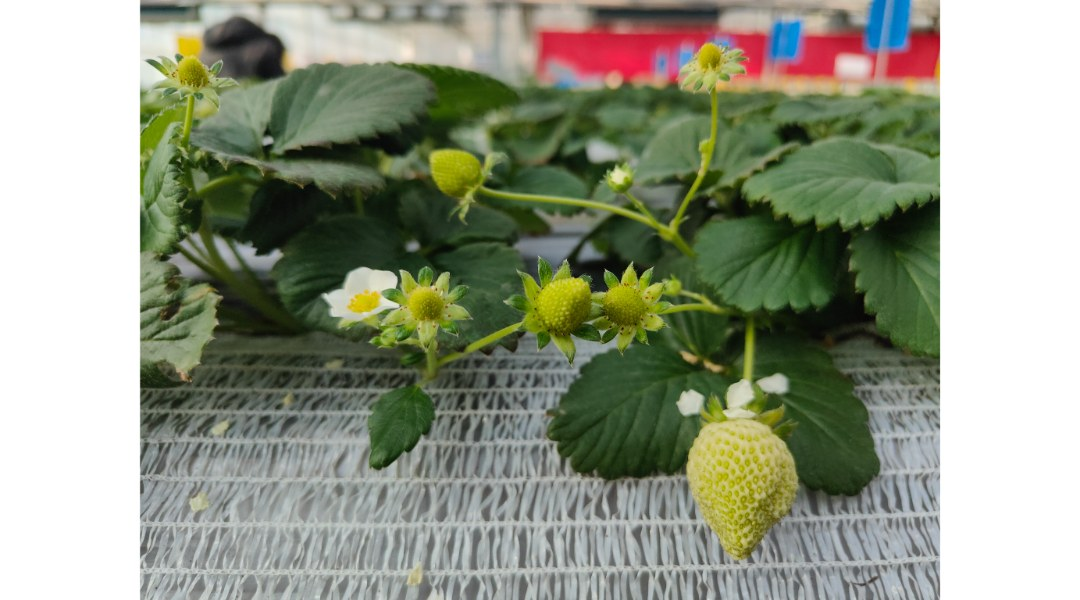berry: (674, 402, 800, 567), (503, 257, 591, 353), (595, 257, 669, 340), (419, 136, 498, 210), (395, 267, 477, 332), (677, 39, 750, 90), (603, 162, 642, 200)
flower: (320, 257, 399, 332)
strain: (478, 190, 666, 235), (682, 88, 724, 238), (445, 316, 520, 382), (739, 312, 762, 402)
